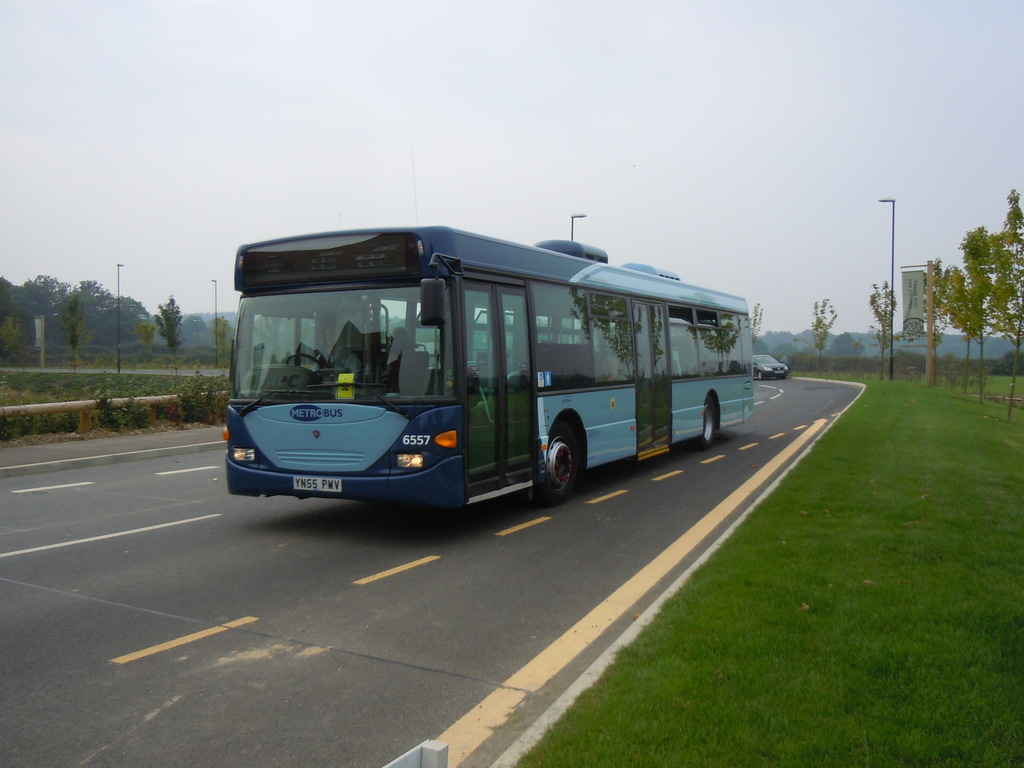Bus: (222, 222, 753, 506)
